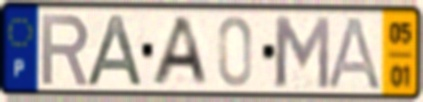0: (216, 14, 254, 89)
A: (83, 12, 147, 89), (147, 14, 212, 88), (325, 14, 384, 93)
M: (271, 13, 333, 92)
R: (39, 11, 92, 87)
